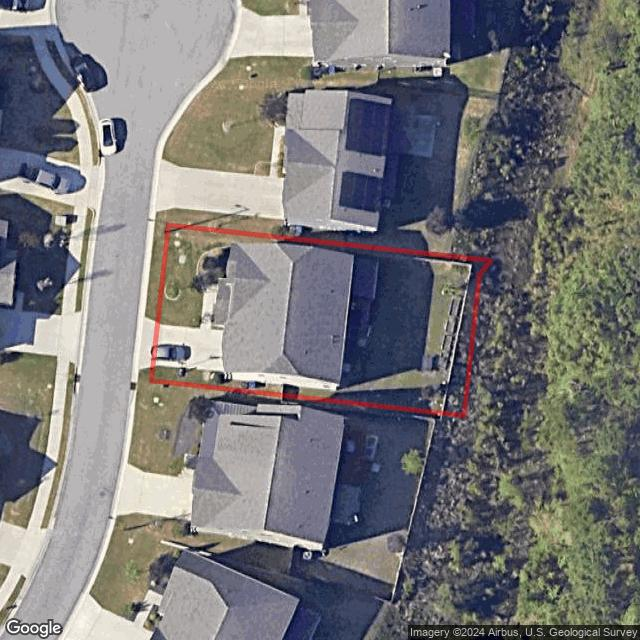Driveway: (150, 324, 225, 374)
Extra-Driveway: (137, 317, 155, 371)
Extra-Lawn: (145, 223, 169, 323), (137, 366, 153, 381)
House: (214, 242, 355, 391)
Lawn: (150, 224, 490, 417)
Other: (441, 259, 490, 415), (345, 254, 382, 351), (194, 245, 232, 288)
Sidewalk: (199, 286, 217, 331)
